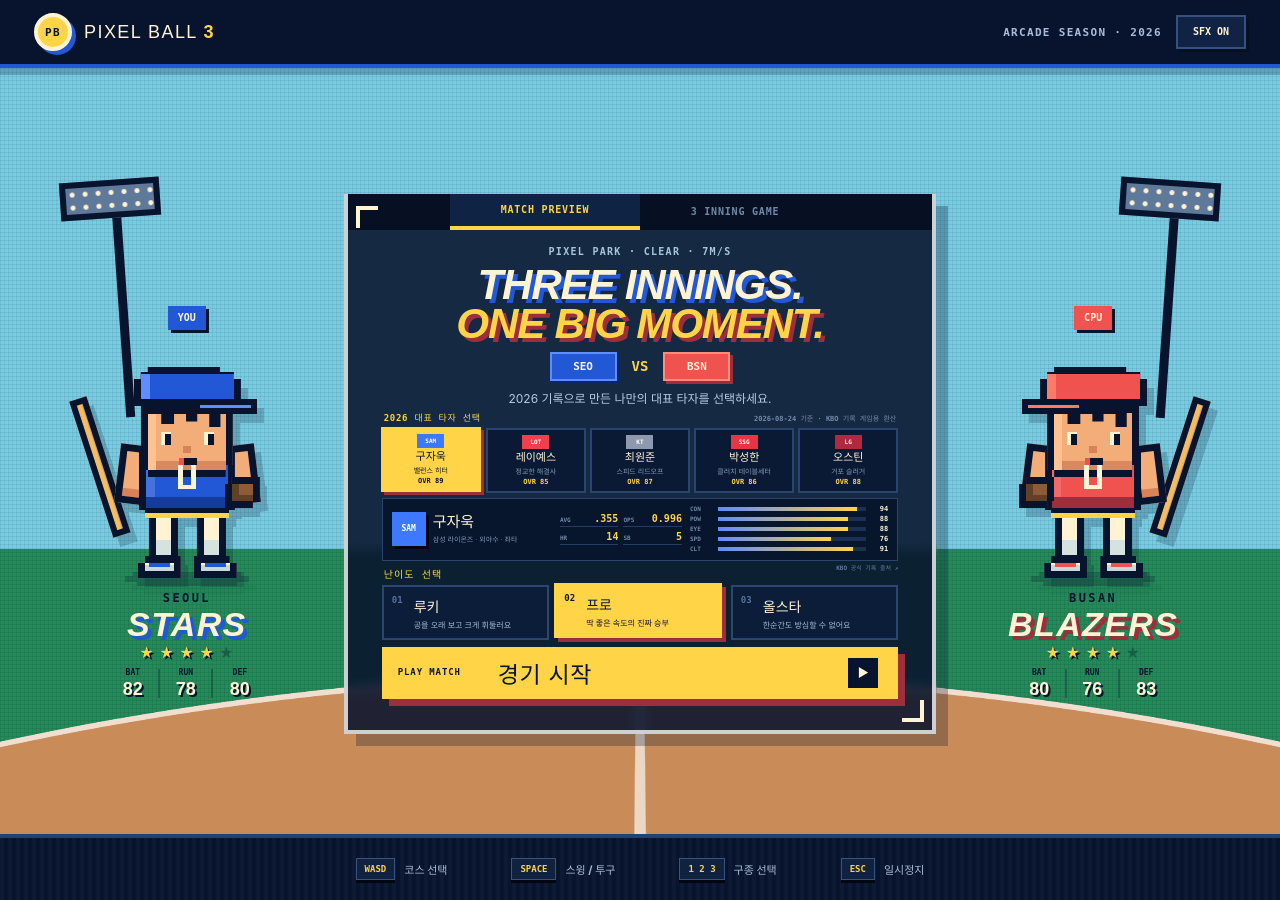
Scenario: PIXEL BALL 화면 › 효과음 버튼과 키보드 M으로 음소거 상태를 바꾼다
This screenshot has width=1280, height=900.
Click the button with aria-label "효과음 끄기" at point(1211, 32), box [1176,15,1246,49]
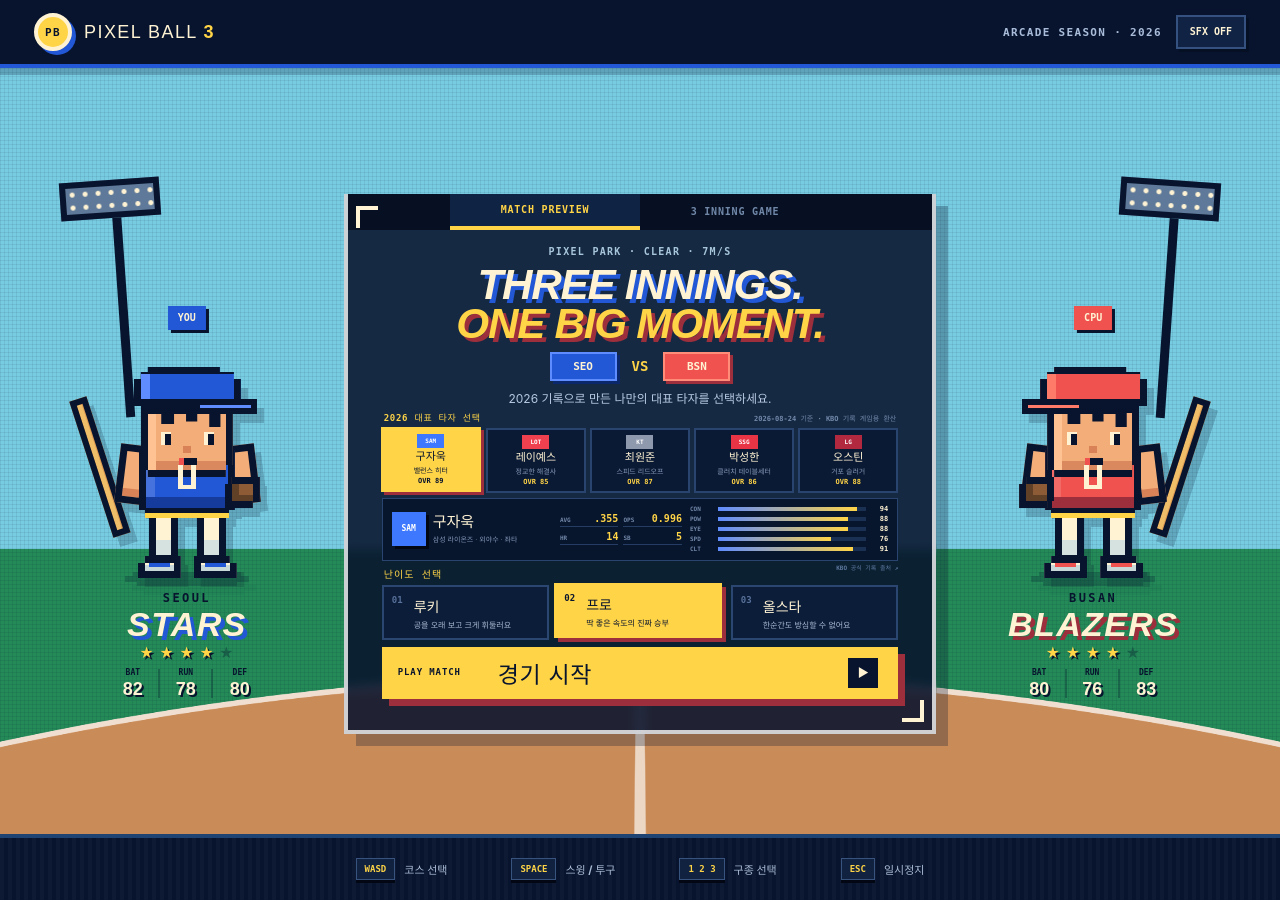
Expected: the button with aria-label "효과음 켜기" is shown, [1176,15,1246,49]
Press m
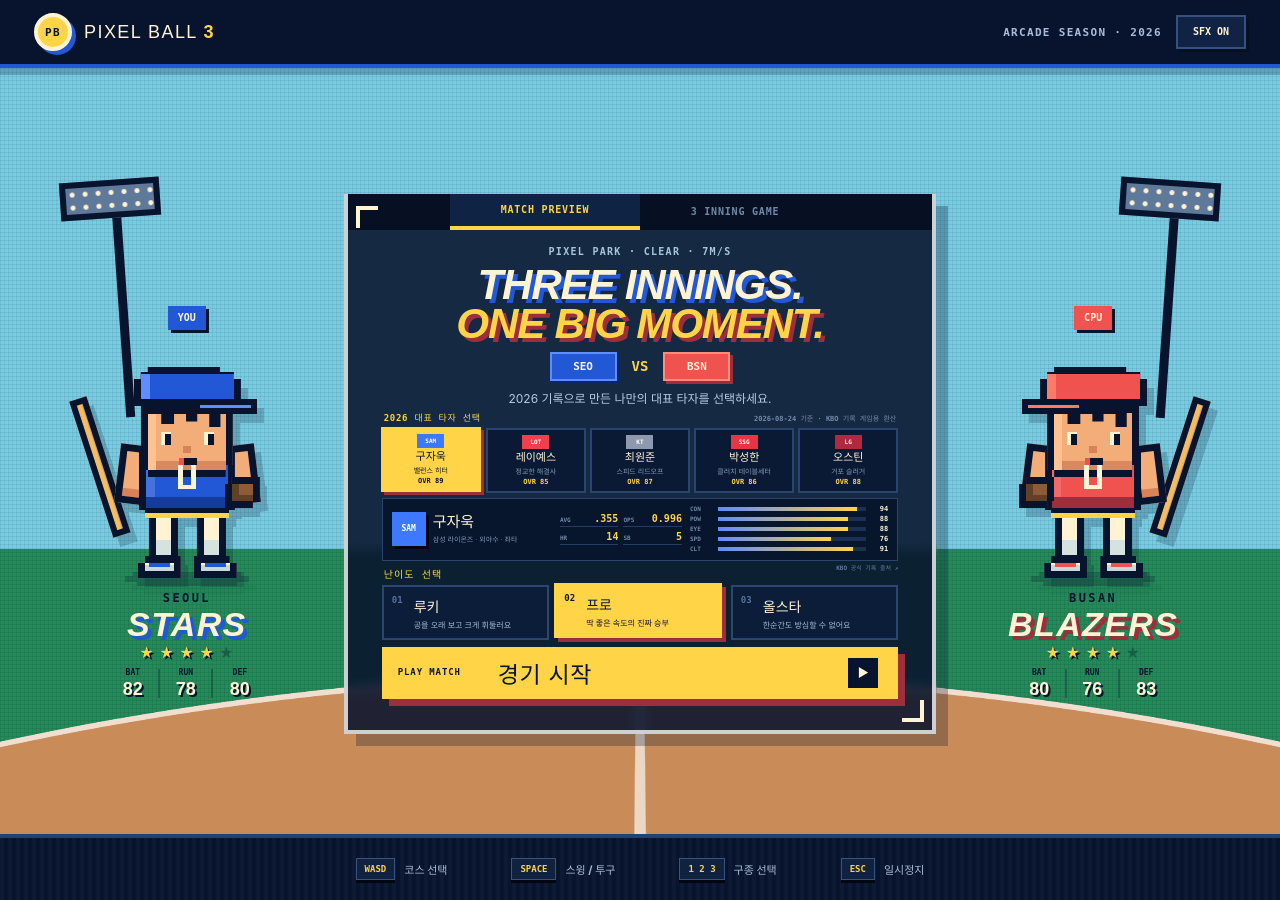
Expected: the button with aria-label "효과음 끄기" is shown, [1176,15,1246,49]
